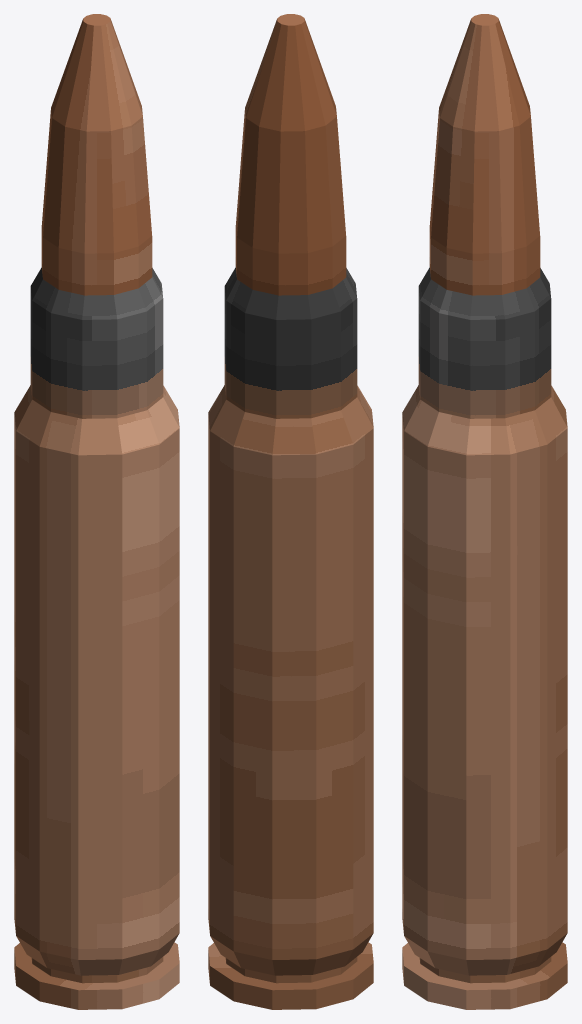
The model's file is bullet.glb.
3 renders of one model, left to right at view 1: azimuth 30°, elevation 25°; view 2: azimuth 150°, elevation 25°; view 3: azimuth 270°, elevation 25°, orthographic.
Parts seen in each view (by area): view 1: cylinder_0, cylinder_1, cylinder_3, cylinder_2; view 2: cylinder_0, cylinder_1, cylinder_3, cylinder_2; view 3: cylinder_0, cylinder_1, cylinder_3, cylinder_2.
Boxes of the visible parts, bbox=[...] form: cylinder_0: bbox=[14, 385, 179, 975]; cylinder_1: bbox=[41, 14, 152, 295]; cylinder_3: bbox=[30, 267, 163, 983]; cylinder_2: bbox=[14, 942, 179, 1009]; cylinder_0: bbox=[208, 385, 373, 975]; cylinder_1: bbox=[235, 14, 346, 295]; cylinder_3: bbox=[224, 267, 357, 983]; cylinder_2: bbox=[208, 942, 373, 1009]; cylinder_0: bbox=[402, 385, 567, 975]; cylinder_1: bbox=[429, 14, 540, 295]; cylinder_3: bbox=[418, 267, 551, 983]; cylinder_2: bbox=[402, 942, 567, 1009].
Bounding box in the file's own units: 0.0947 × 0.6031 × 0.0947.
Materials: 1 (1 with a texture image).
